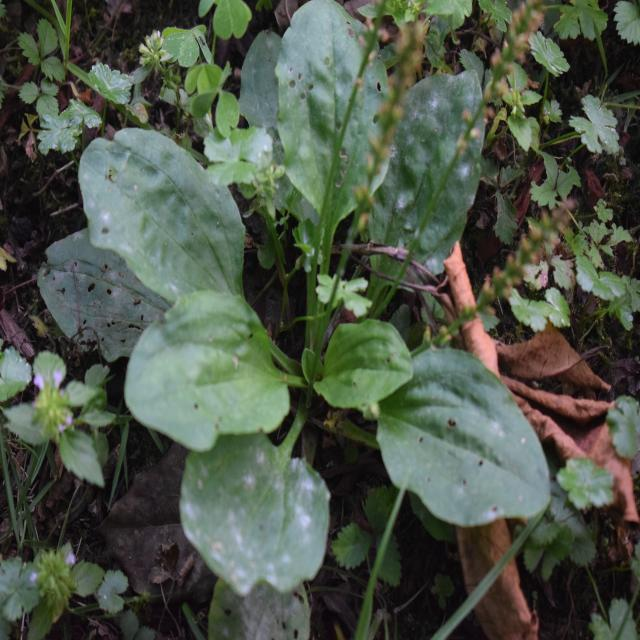plantain: (98, 44, 555, 560)
